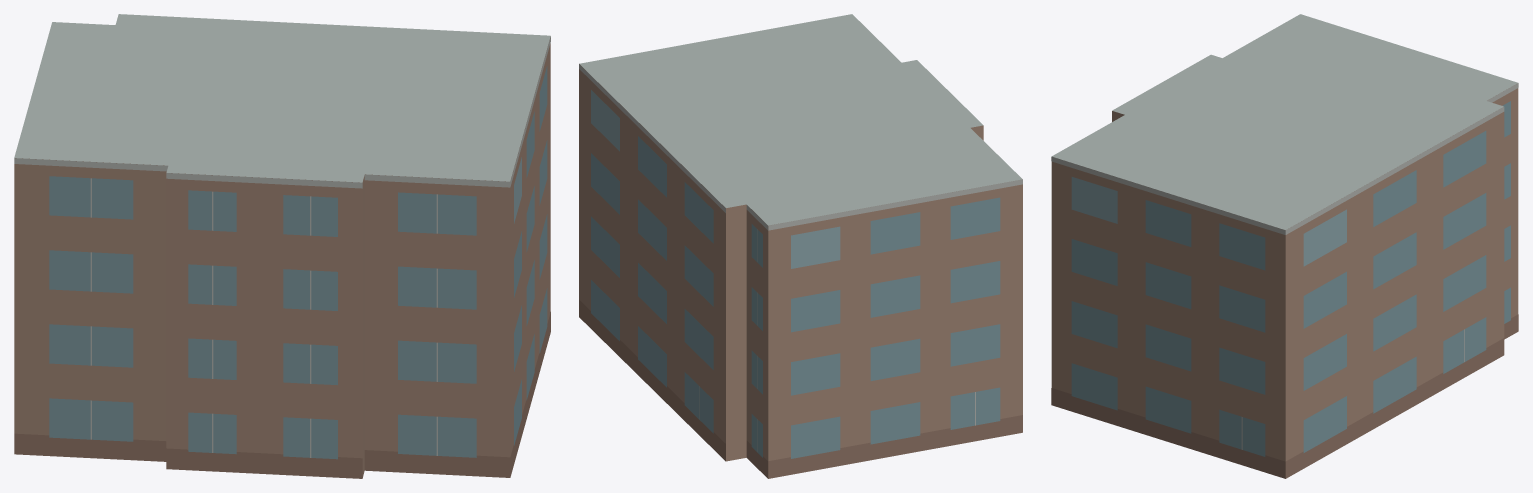
File: residential-594c5fae-b4a4-4900-bf70-c8e87846d0d1.glb
3 views of the same model, side by side, from view 1: azimuth 30°, elevation 25°; view 2: azimuth 150°, elevation 25°; view 3: azimuth 270°, elevation 25° (orthographic). The views are drawn at different scales.
Visible parts, largest first — view 1: residential-594c5fae-b4a4-4900-bf70-c8e87846d0d1.tmp; view 2: residential-594c5fae-b4a4-4900-bf70-c8e87846d0d1.tmp; view 3: residential-594c5fae-b4a4-4900-bf70-c8e87846d0d1.tmp.
Part boxes in pixels (<box>): residential-594c5fae-b4a4-4900-bf70-c8e87846d0d1.tmp: <box>14,14,550,478</box>; residential-594c5fae-b4a4-4900-bf70-c8e87846d0d1.tmp: <box>579,14,1022,478</box>; residential-594c5fae-b4a4-4900-bf70-c8e87846d0d1.tmp: <box>1051,14,1518,478</box>.
Bounding box in the file's own units: 22.75 × 12.2 × 20.77.
